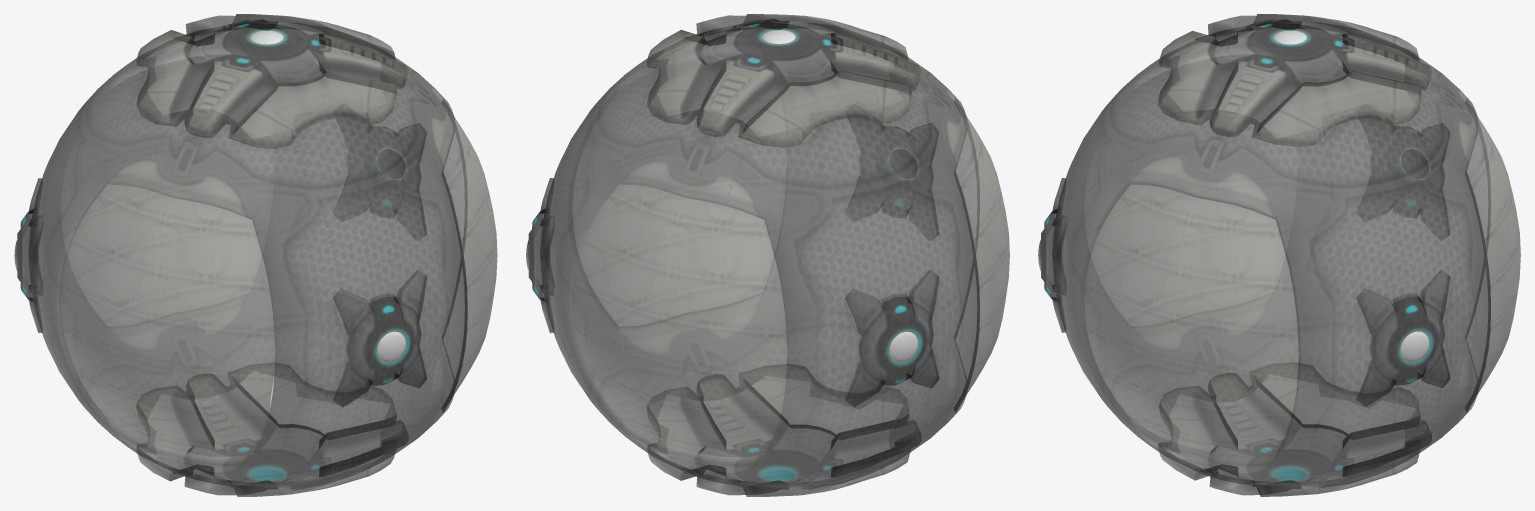
File: Ball.fbx
3 views of the same model, side by side, from view 1: azimuth 30°, elevation 25°; view 2: azimuth 150°, elevation 25°; view 3: azimuth 270°, elevation 25° (orthographic).
Parts seen in each view (by area): view 1: RL_Ball, RL_Ball_Light_Front, RL_Ball_Light_Diagonal_Left; view 2: RL_Ball, RL_Ball_Light_Diagonal_Right, RL_Ball_Light_Front; view 3: RL_Ball, RL_Ball_Light_Diagonal_Left, RL_Ball_Light_Diagonal_Right.
Part boxes in pixels (<box>): RL_Ball: <box>17,14,497,496</box>; RL_Ball_Light_Front: <box>377,331,405,362</box>; RL_Ball_Light_Diagonal_Left: <box>377,149,405,179</box>; RL_Ball: <box>528,14,1009,496</box>; RL_Ball_Light_Diagonal_Right: <box>889,331,918,362</box>; RL_Ball_Light_Front: <box>890,149,917,178</box>; RL_Ball: <box>1041,14,1520,496</box>; RL_Ball_Light_Diagonal_Left: <box>1400,331,1429,361</box>; RL_Ball_Light_Diagonal_Right: <box>1401,149,1428,178</box>.
Bounding box in the file's own units: 18420 × 18947 × 18681.
